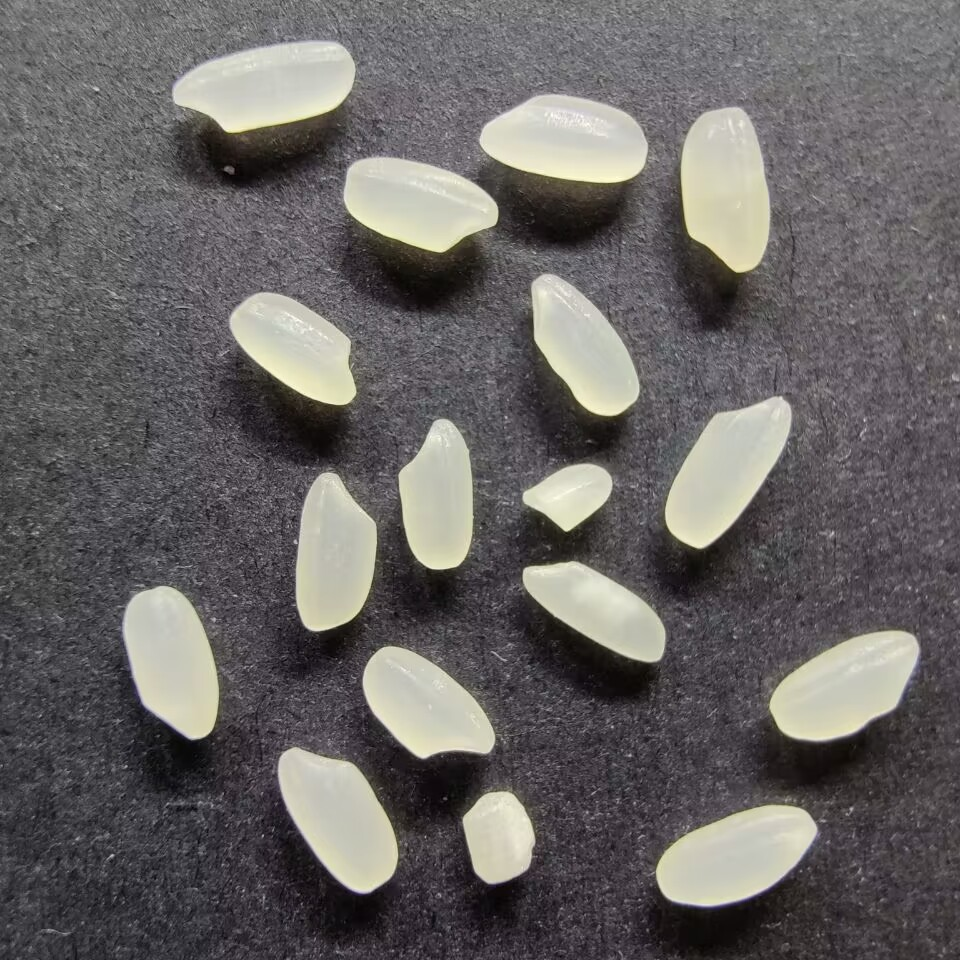broken: (461, 789, 537, 886), (518, 462, 615, 533)
rice: (662, 395, 795, 551), (276, 745, 401, 897), (169, 36, 355, 136), (653, 803, 819, 909), (767, 628, 921, 742), (529, 272, 642, 418), (678, 105, 773, 275), (119, 584, 221, 742), (360, 644, 497, 761), (341, 155, 502, 254), (477, 92, 649, 184), (521, 559, 670, 664), (227, 290, 359, 406), (291, 470, 378, 633), (395, 416, 475, 570)
